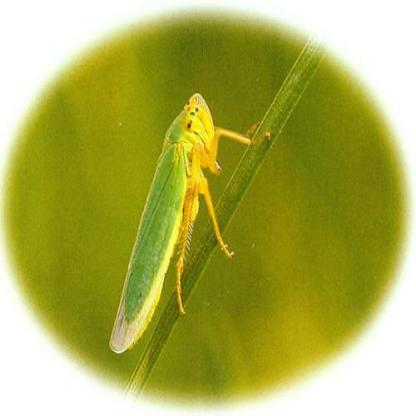Green-Leafhopper: (107, 92, 252, 356)
